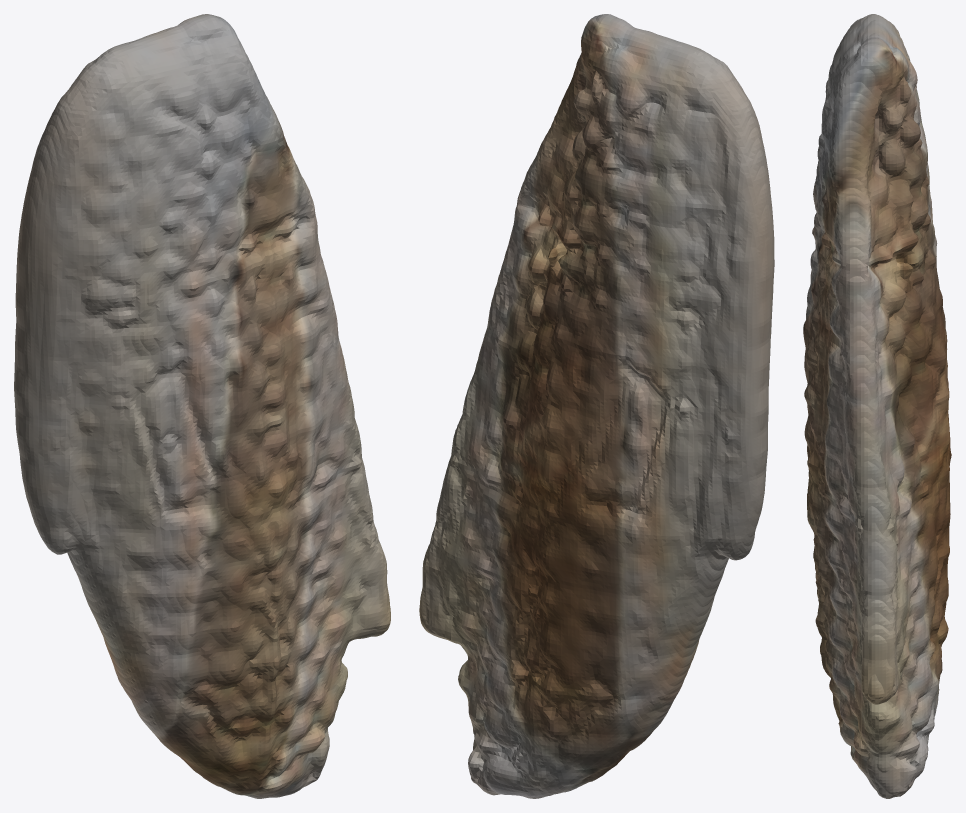
3 renders of one model, left to right at view 1: azimuth 30°, elevation 25°; view 2: azimuth 150°, elevation 25°; view 3: azimuth 270°, elevation 25°, orthographic. The views are drawn at different scales.
Parts seen in each view (by area): view 1: geometry_0; view 2: geometry_0; view 3: geometry_0.
Boxes of the visible parts, <box> form: geometry_0: <box>14,14,390,798</box>; geometry_0: <box>419,14,774,798</box>; geometry_0: <box>803,14,951,798</box>.
Bounding box in the file's own units: 0.4607 × 0.9877 × 0.187.
